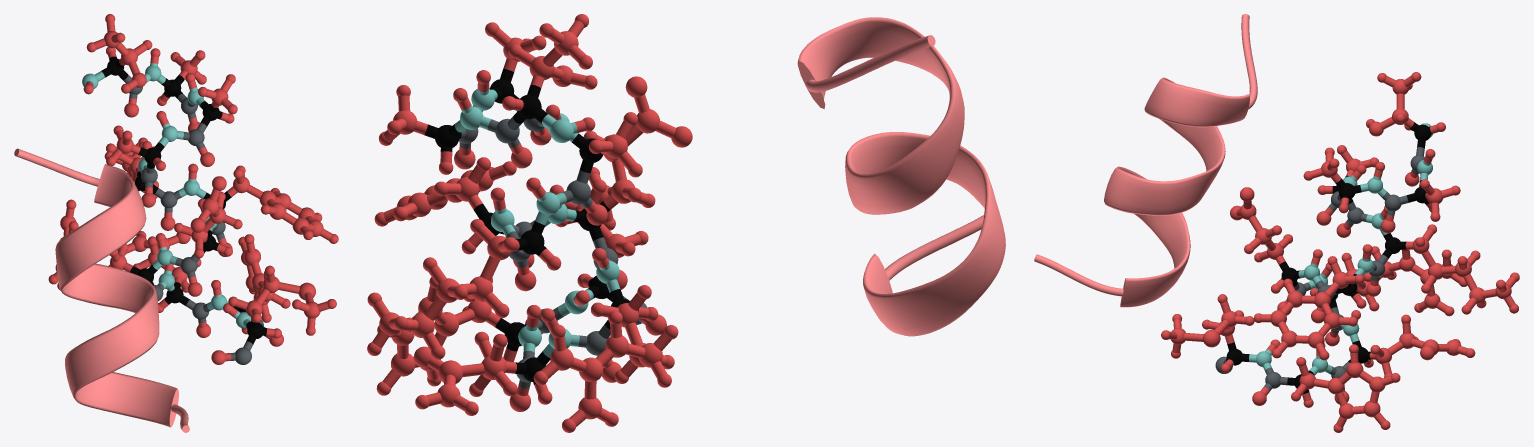
File: 7rsa_alpha1.glb
3 views of the same model, side by side, from view 1: azimuth 30°, elevation 25°; view 2: azimuth 150°, elevation 25°; view 3: azimuth 270°, elevation 25° (orthographic). The views are drawn at different scales.
Parts seen in each view (by area): view 1: New_Node; view 2: New_Node; view 3: New_Node.
Part boxes in pixels (x1,y1,x2,y2): New_Node: [14, 14, 338, 432]; New_Node: [367, 14, 1005, 432]; New_Node: [1034, 14, 1519, 432].
Bounding box in the file's own units: 654347 × 557608 × 804932.
